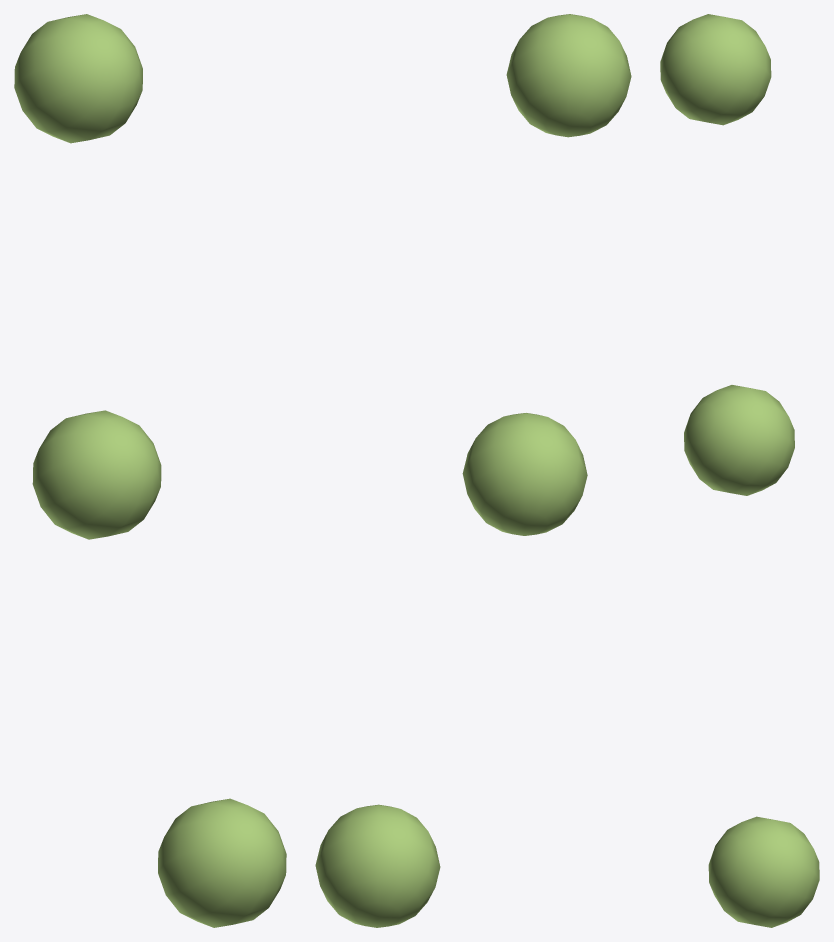
Rendered from pretracheal-nodes-l.glb.
3 renders of one model, left to right at view 1: azimuth 30°, elevation 25°; view 2: azimuth 150°, elevation 25°; view 3: azimuth 270°, elevation 25°, orthographic. The views are drawn at different scales.
Visible parts, largest first — view 1: Pretracheal nodes.l; view 2: Pretracheal nodes.l; view 3: Pretracheal nodes.l.
Part boxes in pixels (x1,y1,x2,y2): Pretracheal nodes.l: (14,14,286,927); Pretracheal nodes.l: (315,14,631,927); Pretracheal nodes.l: (660,14,819,927).
Bounding box in the file's own units: 0.0065 × 0.0212 × 0.00368.
